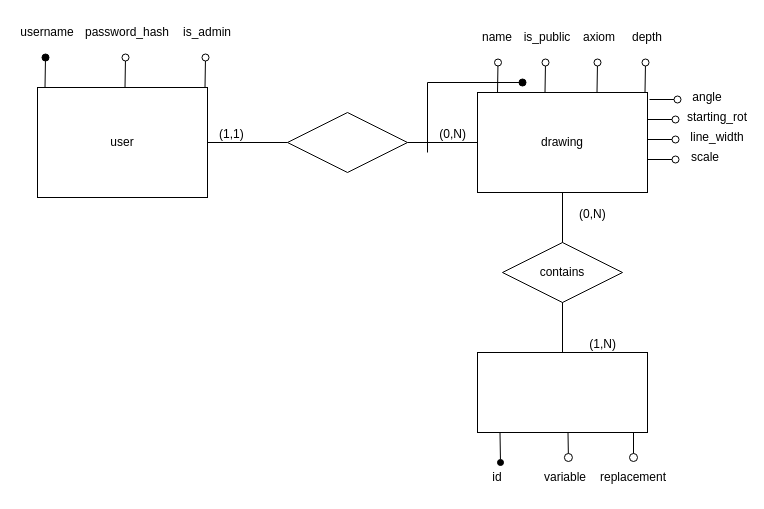
Some shapes in this 764 by 509 pixel diagram are drawn without their labels. The centre of each missing label's shape, as x and y in pixels:
"creates" goes at point (347, 142).
"rule" goes at point (562, 392).
